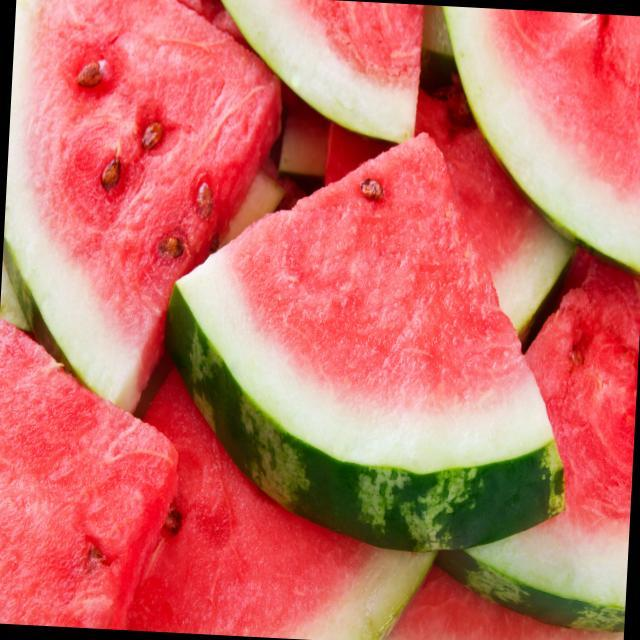WATERMELON: (173, 115, 580, 538), (0, 0, 282, 411), (119, 309, 449, 640), (439, 244, 640, 638), (0, 322, 186, 632), (433, 8, 640, 274), (344, 102, 584, 326), (214, 0, 424, 153)
